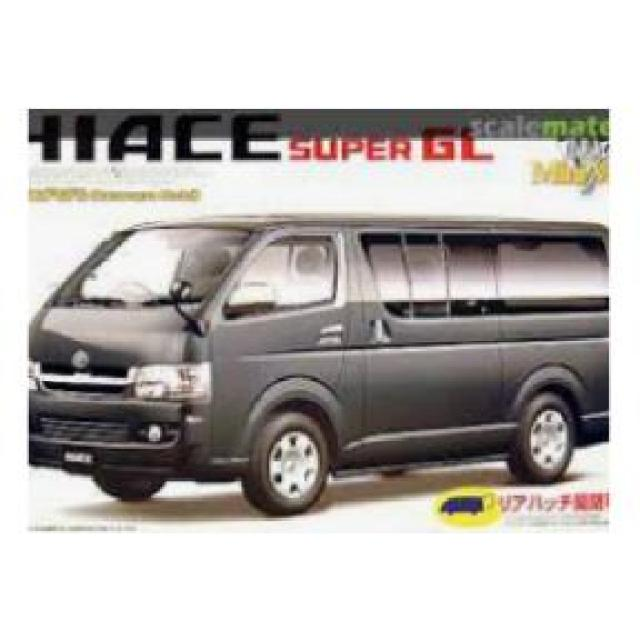Van: (34, 208, 602, 508)
